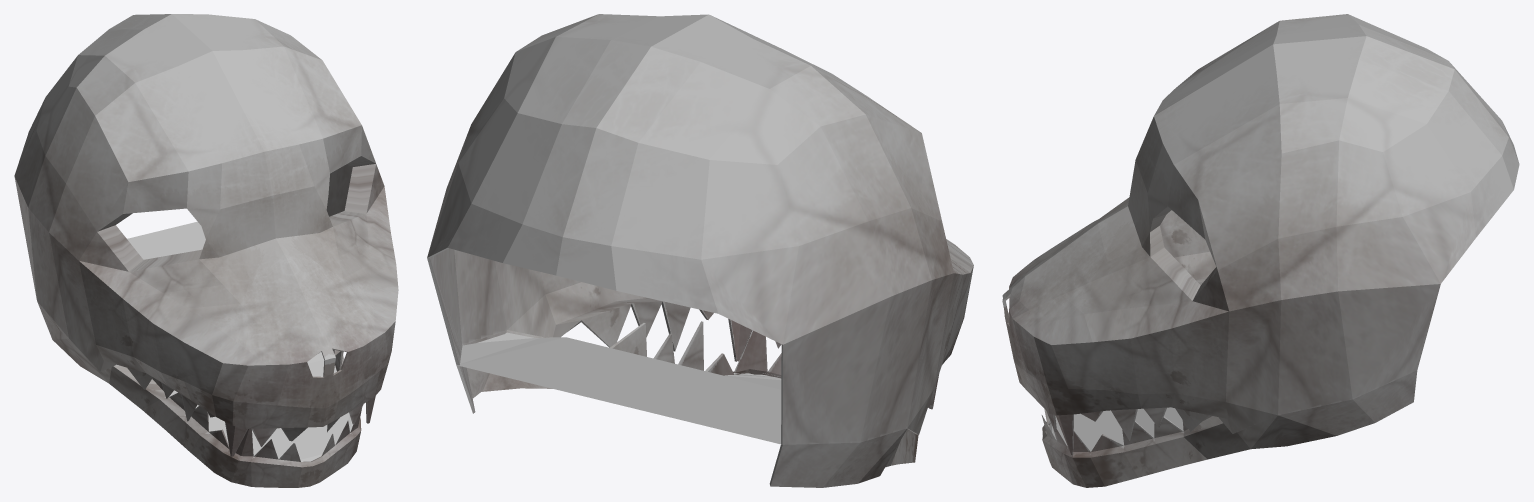
File: 3DObj_Bone_V3.fbx
The picture shows the model from 3 angles, left to right: view 1: azimuth 30°, elevation 25°; view 2: azimuth 150°, elevation 25°; view 3: azimuth 270°, elevation 25°; orthographic projection. The views are drawn at different scales.
Parts seen in each view (by area): view 1: 3DObj_Bone_V3; view 2: 3DObj_Bone_V3; view 3: 3DObj_Bone_V3.
Boxes of the visible parts, bbox=[...] form: 3DObj_Bone_V3: bbox=[14, 14, 398, 487]; 3DObj_Bone_V3: bbox=[427, 14, 973, 487]; 3DObj_Bone_V3: bbox=[1002, 14, 1519, 487].
Size of the model in its own units: 155 by 172 by 189.
1 material, 1 textured.
